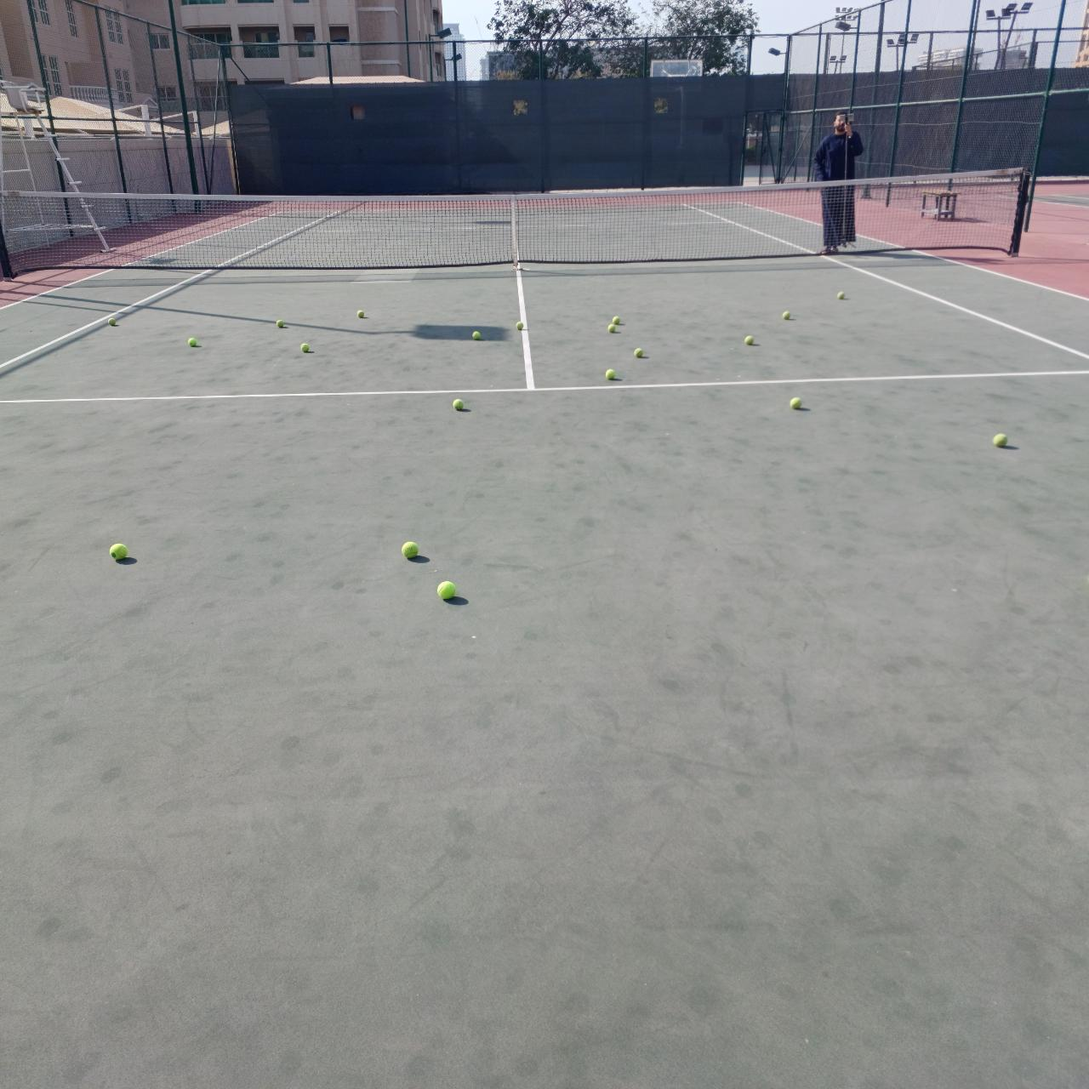tennis-ball: (436, 578, 456, 600), (400, 539, 419, 559), (108, 540, 128, 559), (992, 432, 1008, 448), (790, 397, 802, 411), (453, 399, 465, 411), (605, 368, 616, 380), (300, 342, 311, 353), (472, 330, 482, 341), (745, 335, 754, 346), (782, 311, 792, 320), (634, 348, 643, 358), (607, 324, 616, 334), (837, 291, 846, 300), (276, 319, 285, 328), (188, 338, 197, 347), (612, 315, 620, 324), (516, 322, 524, 330), (357, 310, 365, 318), (108, 318, 116, 326)
